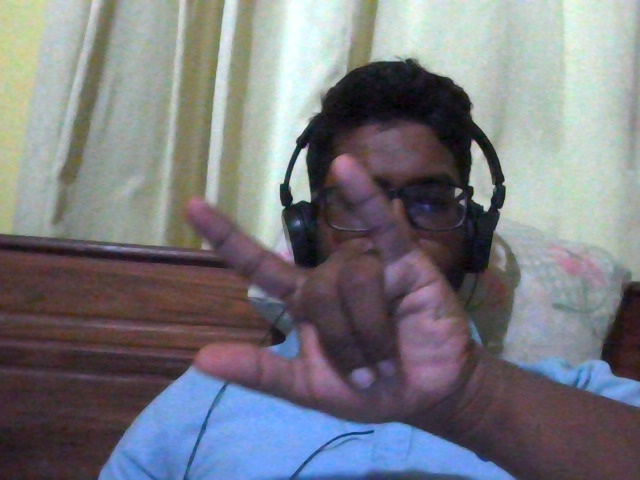I Love You: (148, 147, 507, 438)
